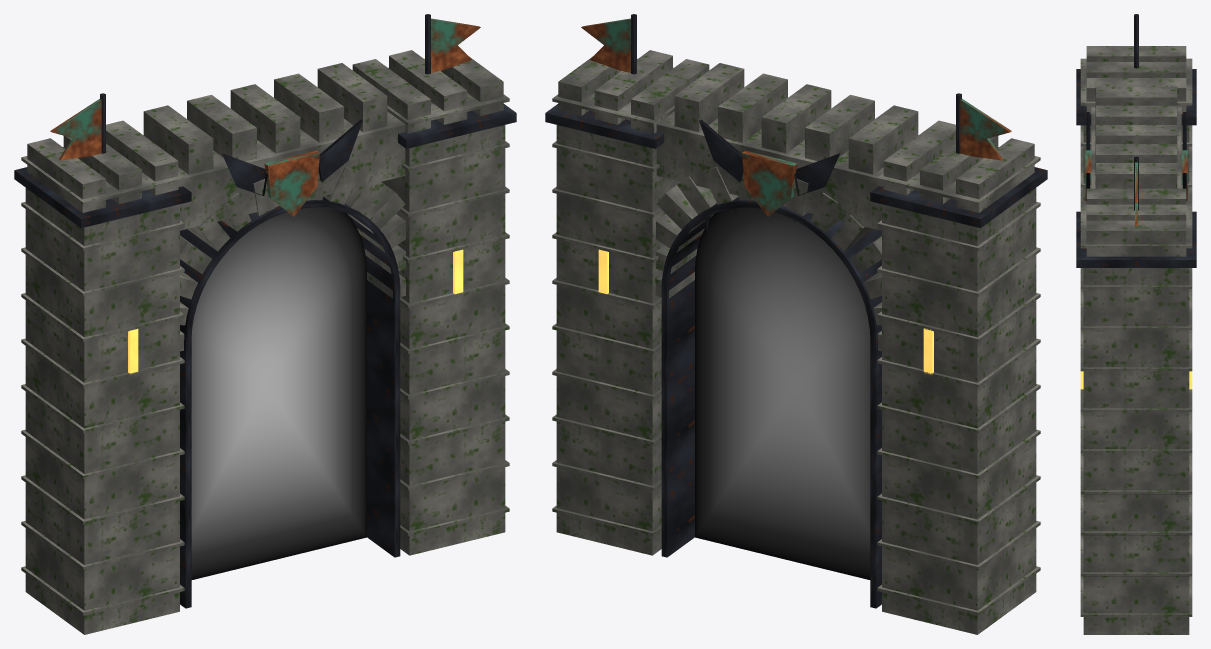
File: cloudbreak_keep.glb
3 renders of one model, left to right at view 1: azimuth 30°, elevation 25°; view 2: azimuth 150°, elevation 25°; view 3: azimuth 270°, elevation 25°, orthographic. The views are drawn at different scales.
Visible parts, largest first — view 1: Frame, Veil; view 2: Frame, Veil; view 3: Frame.
Part boxes in pixels (bbox=[...]): Frame: bbox=[14, 14, 516, 634]; Veil: bbox=[191, 207, 366, 579]; Frame: bbox=[545, 14, 1047, 634]; Veil: bbox=[695, 207, 870, 579]; Frame: bbox=[1076, 14, 1196, 634].
Bounding box in the file's own units: 3 × 3.34 × 0.8.
5 materials, 4 textured.
